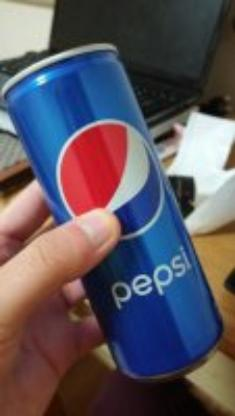Can: (0, 40, 226, 380)
